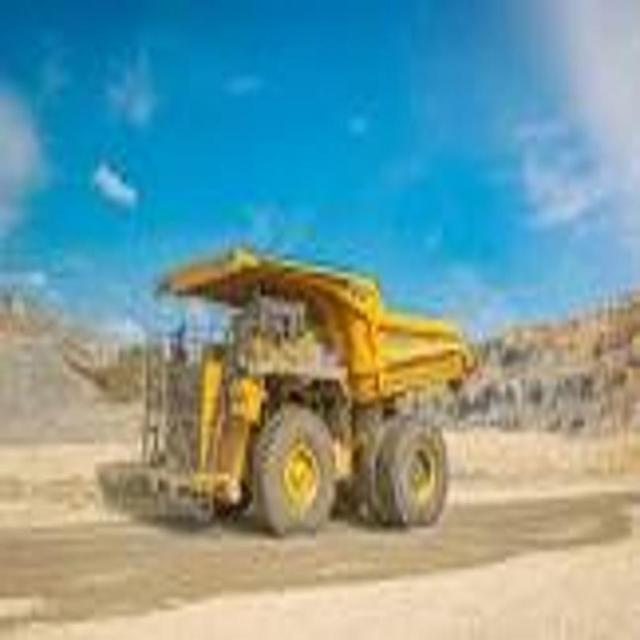dump_truck: (147, 240, 481, 544)
